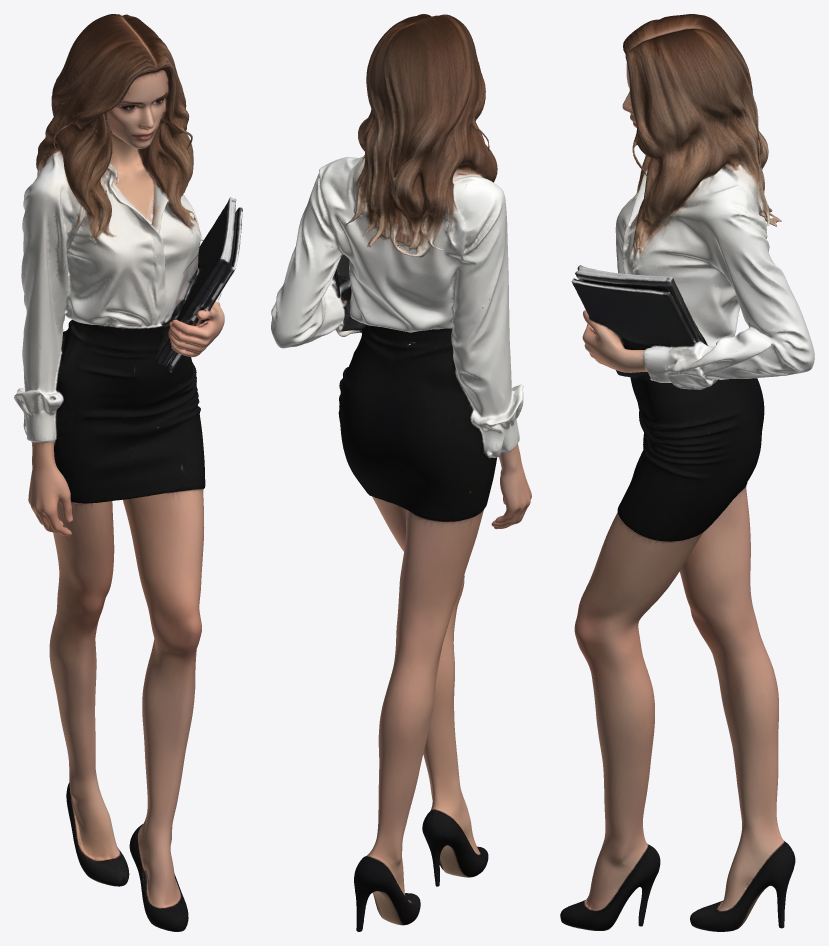
Rendered from population4.glb.
3 renders of one model, left to right at view 1: azimuth 30°, elevation 25°; view 2: azimuth 150°, elevation 25°; view 3: azimuth 270°, elevation 25°, orthographic. The views are drawn at different scales.
Visible parts, largest first — view 1: Object_6, Object_7, Object_5; view 2: Object_5, Object_6, Object_7; view 3: Object_5, Object_6, Object_7.
Boxes of the visible parts, <box> form: Object_6: <box>21,29,242,880</box>; Object_7: <box>49,53,241,913</box>; Object_5: <box>14,14,238,931</box>; Object_5: <box>271,16,521,925</box>; Object_6: <box>271,14,531,931</box>; Object_7: <box>424,38,497,886</box>; Object_5: <box>560,14,814,931</box>; Object_6: <box>609,16,813,928</box>; Object_7: <box>574,45,658,930</box>.
Bounding box in the file's own units: 0.483 × 1.9 × 0.4837.
1 material, 1 textured.
